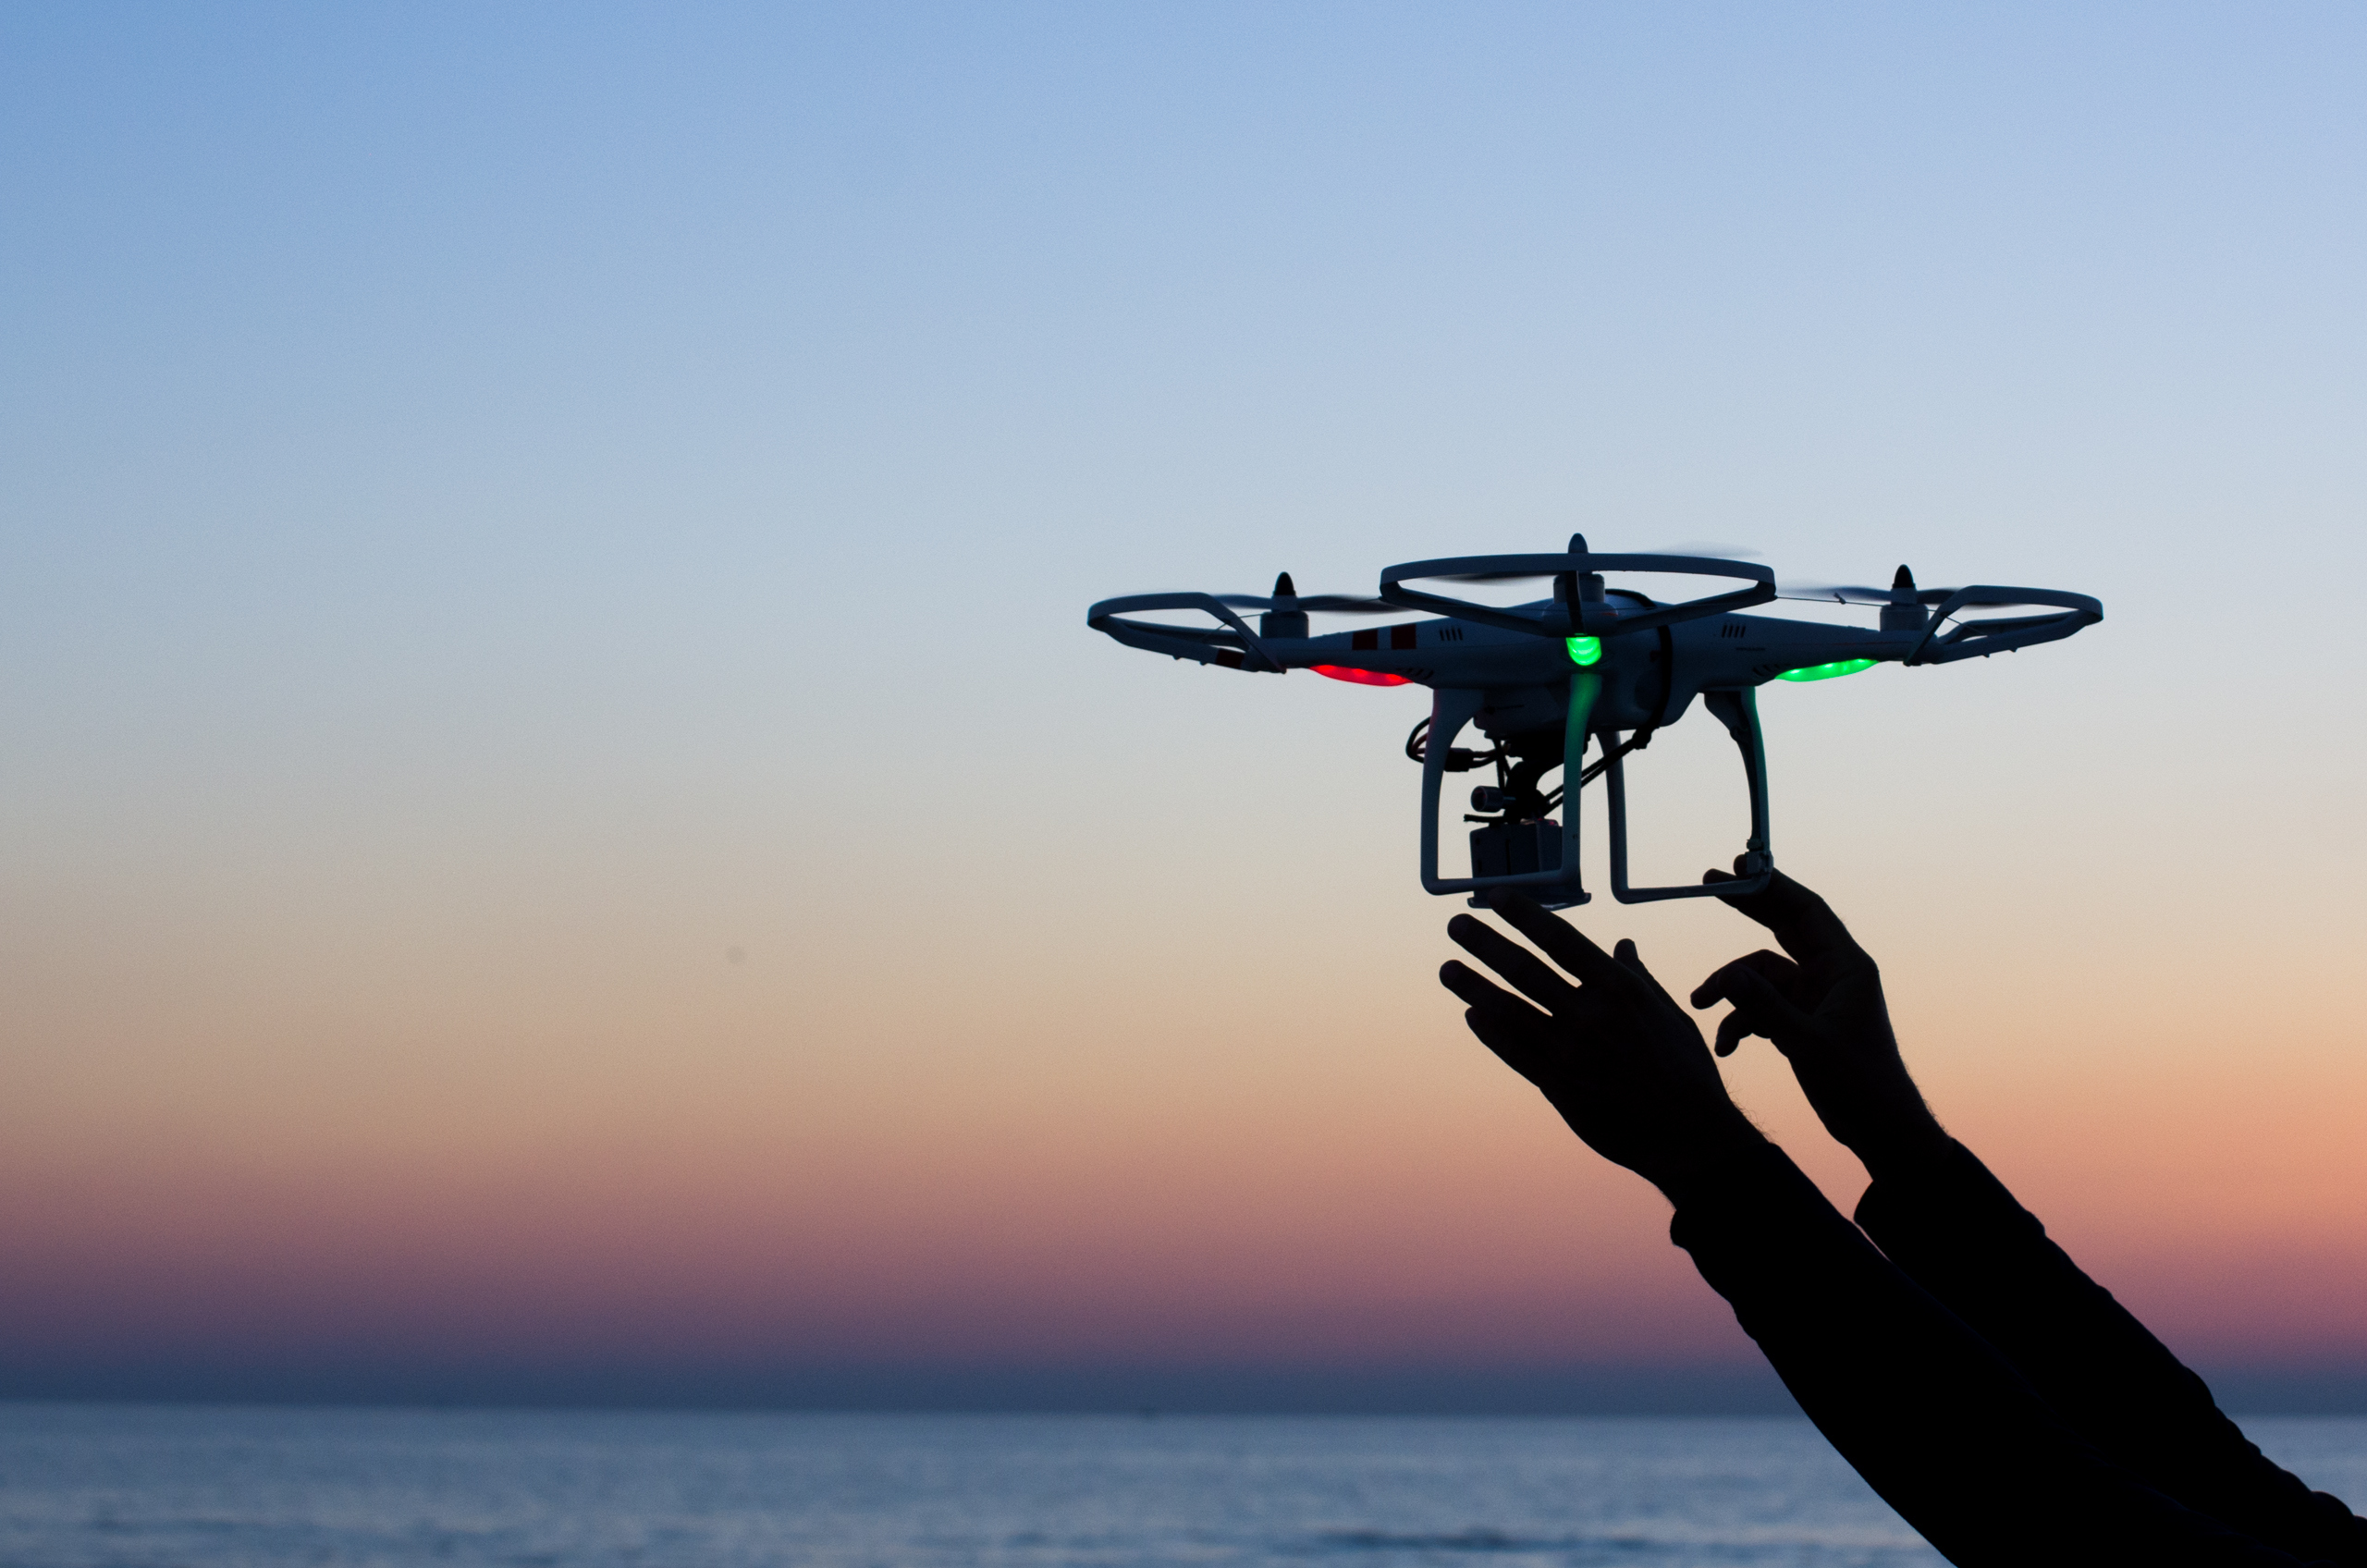drone: (1085, 529, 2111, 913)
person: (1433, 864, 2367, 1568)
